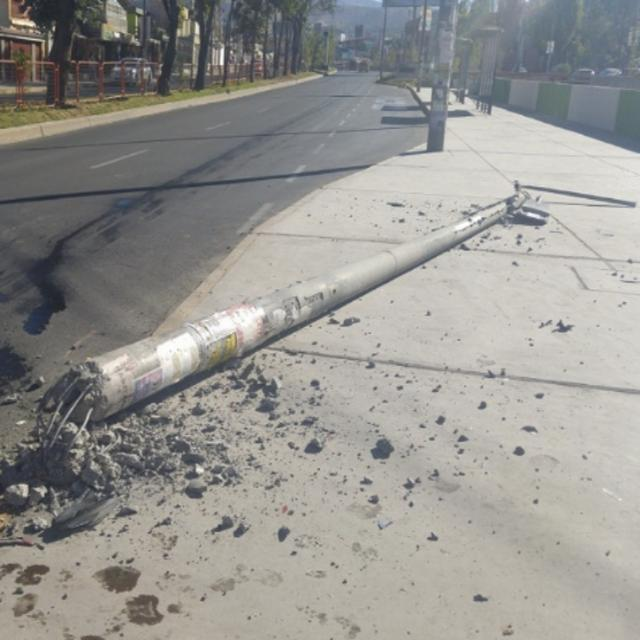Inclined Pole: (30, 190, 556, 508)
